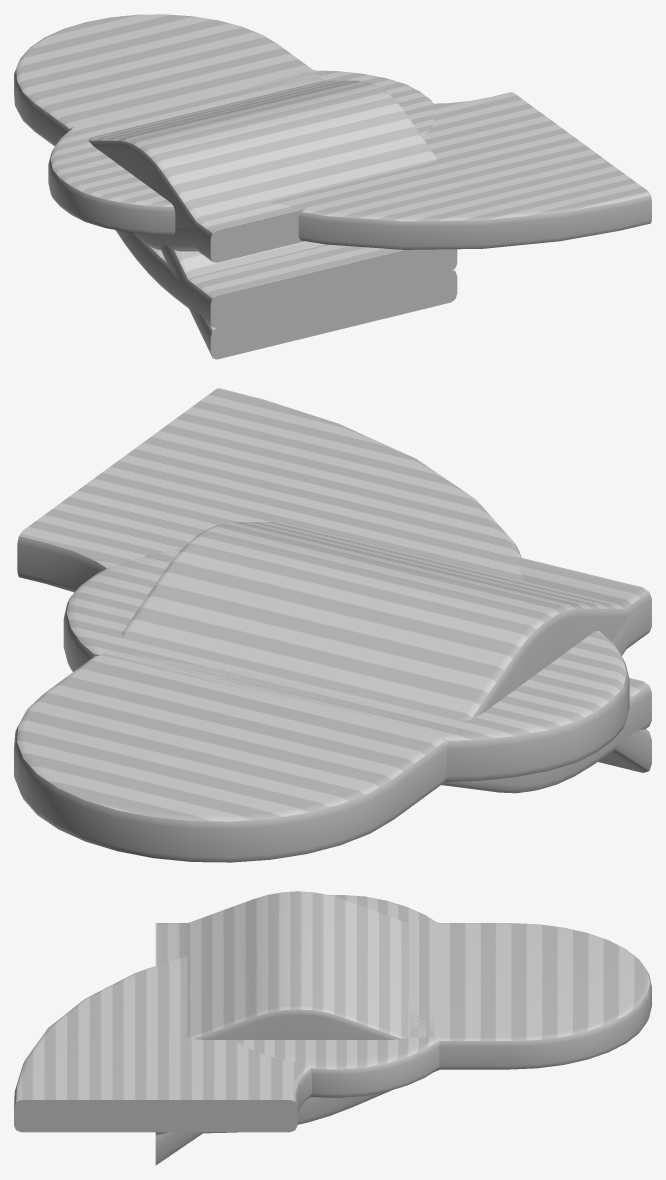
Rendered from Floor_2x4_BothSoft_thin.fbx.
The picture shows the model from 3 angles, top to bottom: view 1: azimuth 30°, elevation 25°; view 2: azimuth 150°, elevation 25°; view 3: azimuth 270°, elevation 25°; orthographic projection. The views are drawn at different scales.
Parts seen in each view (by area): view 1: Floor_2x4_BS_Tn_rotate, Floor_2x4_BS_Tn_hill, Floor_2x4_BS_Tn_cap, Floor_2x4_BS_Tn_ramp2, Floor_2x4_BS_Tn_circle, Floor_2x4_BS_Tn_ramp1, Floor_2x4_BS_Tn_deep, Floor_2x4_BS_Tn_main; view 2: Floor_2x4_BS_Tn_cap, Floor_2x4_BS_Tn_hill, Floor_2x4_BS_Tn_rotate, Floor_2x4_BS_Tn_circle, Floor_2x4_BS_Tn_ramp2, Floor_2x4_BS_Tn_main, Floor_2x4_BS_Tn_ramp1, Floor_2x4_BS_Tn_deep; view 3: Floor_2x4_BS_Tn_rotate, Floor_2x4_BS_Tn_hill, Floor_2x4_BS_Tn_cap, Floor_2x4_BS_Tn_circle, Floor_2x4_BS_Tn_ramp2, Floor_2x4_BS_Tn_ramp1, Floor_2x4_BS_Tn_main.
Boxes of the visible parts, x1=… form: Floor_2x4_BS_Tn_rotate: x1=268, y1=92, x2=651, y2=249; Floor_2x4_BS_Tn_hill: x1=88, y1=80, x2=436, y2=253; Floor_2x4_BS_Tn_cap: x1=14, y1=14, x2=312, y2=146; Floor_2x4_BS_Tn_ramp2: x1=115, y1=230, x2=457, y2=327; Floor_2x4_BS_Tn_circle: x1=48, y1=69, x2=434, y2=235; Floor_2x4_BS_Tn_ramp1: x1=155, y1=69, x2=457, y2=359; Floor_2x4_BS_Tn_deep: x1=134, y1=208, x2=305, y2=262; Floor_2x4_BS_Tn_main: x1=239, y1=69, x2=323, y2=88; Floor_2x4_BS_Tn_cap: x1=14, y1=655, x2=446, y2=862; Floor_2x4_BS_Tn_hill: x1=121, y1=522, x2=651, y2=720; Floor_2x4_BS_Tn_rotate: x1=17, y1=388, x2=523, y2=592; Floor_2x4_BS_Tn_circle: x1=63, y1=549, x2=629, y2=782; Floor_2x4_BS_Tn_ramp2: x1=441, y1=678, x2=651, y2=793; Floor_2x4_BS_Tn_main: x1=106, y1=651, x2=443, y2=736; Floor_2x4_BS_Tn_ramp1: x1=102, y1=650, x2=651, y2=772; Floor_2x4_BS_Tn_deep: x1=514, y1=556, x2=651, y2=655; Floor_2x4_BS_Tn_rotate: x1=14, y1=956, x2=311, y2=1132; Floor_2x4_BS_Tn_hill: x1=156, y1=891, x2=439, y2=1069; Floor_2x4_BS_Tn_cap: x1=439, y1=923, x2=651, y2=1069; Floor_2x4_BS_Tn_circle: x1=235, y1=895, x2=439, y2=1097; Floor_2x4_BS_Tn_ramp2: x1=155, y1=1069, x2=439, y2=1134; Floor_2x4_BS_Tn_ramp1: x1=155, y1=1132, x2=202, y2=1165; Floor_2x4_BS_Tn_main: x1=408, y1=1007, x2=439, y2=1036.
Bounding box in the file's own units: 694 × 249 × 900.
